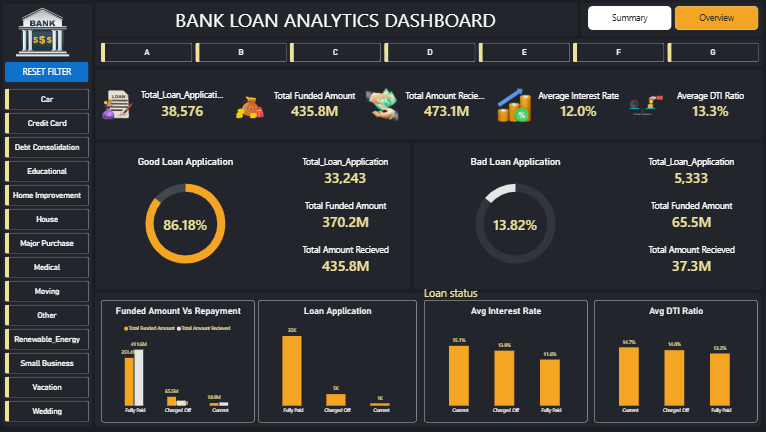

The page's visual inventory and layout, read from the dashboard file:
{"tool":"powerbi","page":{"name":"Summary","canvas":[1920,1080],"ordinal":0},"visuals":[{"type":"cardVisual","fields":{"Data":["financial_loan.Total_Loan_Application","financial_loan.Total Funded Amount","financial_loan.Total Amount Recieved","financial_loan.Average Interest Rate","financial_loan.Average DTI Rate"]},"box":[257.5,190,1644.4,144.4],"z":0},{"type":"donutChart","title":"Good Loan Application","fields":{"Category":["financial_loan.Good_vs_Bad_Loan"],"Y":["financial_loan.Total_Loan_Application"]},"box":[257.8,377.8,422.2,322.2],"z":1000},{"type":"donutChart","title":"Bad Loan Application","fields":{"Category":["financial_loan.Good_vs_Bad_Loan"],"Y":["financial_loan.Total_Loan_Application"]},"box":[1062.5,377.5,462.5,322.5],"z":2000},{"type":"cardVisual","fields":{"Data":["financial_loan.Good Loan%"]},"box":[365.6,484.4,206.7,151.1],"z":3000},{"type":"cardVisual","fields":{"Data":["financial_loan.Bad Loan%"]},"box":[1190,485,206.7,151.1],"z":4000},{"type":"cardVisual","fields":{"Data":["financial_loan.Total_Loan_Application","financial_loan.Total Funded Amount","financial_loan.Total Amount Recieved"],"Rows":["financial_loan.Good_vs_Bad_Loan"]},"box":[688.9,377.8,322.2,322.2],"z":5000},{"type":"cardVisual","fields":{"Data":["financial_loan.Total_Loan_Application","financial_loan.Total Funded Amount","financial_loan.Total Amount Recieved"],"Rows":["financial_loan.Good_vs_Bad_Loan"]},"box":[1545,377.5,342.5,322.5],"z":6000},{"type":"clusteredColumnChart","title":"Funded Amount Vs Repayment","fields":{"Category":["financial_loan.LOAN_STATUS"],"Y":["financial_loan.Total Funded Amount","financial_loan.Total Amount Recieved"]},"box":[256.2,750,384.4,306.2],"z":7000},{"type":"clusteredColumnChart","title":"Loan Application","fields":{"Category":["financial_loan.LOAN_STATUS"],"Y":["financial_loan.Total_Loan_Application"]},"box":[650,750,396.9,306.2],"z":8000},{"type":"textbox","box":[1065,712.5,247.5,75],"z":9000},{"type":"clusteredColumnChart","title":"Avg Interest Rate","fields":{"Category":["financial_loan.LOAN_STATUS"],"Y":["financial_loan.Average Interest Rate"]},"box":[1065.6,750,409.4,306.2],"z":10000},{"type":"clusteredColumnChart","title":"Avg DTI Ratio","fields":{"Category":["financial_loan.LOAN_STATUS"],"Y":["financial_loan.Average DTI Ratio"]},"box":[1490.6,750,409.4,306.2],"z":11000},{"type":"image","box":[18.2,4.5,187.5,150],"z":12000},{"type":"advancedSlicerVisual","fields":{"Values":["financial_loan.PURPOSE"]},"box":[17.5,190,210,867.5],"z":13000},{"type":"advancedSlicerVisual","fields":{"Values":["financial_loan.GRADE"]},"box":[256.2,75,1646.2,80],"z":14000},{"type":"actionButton","box":[18.2,154.5,209.1,50],"z":15000},{"type":"textbox","box":[263.3,15.6,1163.3,71.1],"z":16000},{"type":"pageNavigator","box":[1475,15,427.5,60],"z":17000}]}

Visuals, with their boxes in screenshot pixels (x1, y1, x2, y2), scaled from the page's 1920x1080 canvas onto the 766x432 screenshot:
cardVisual - financial_loan.Total_Loan_Application x financial_loan.Total Funded Amount: 103 76 759 134
"Good Loan Application" donutChart: 103 151 271 280
"Bad Loan Application" donutChart: 424 151 608 280
cardVisual - financial_loan.Good Loan%: 146 194 228 254
cardVisual - financial_loan.Bad Loan%: 475 194 557 254
cardVisual - financial_loan.Total_Loan_Application x financial_loan.Total Funded Amount: 275 151 403 280
cardVisual - financial_loan.Total_Loan_Application x financial_loan.Total Funded Amount: 616 151 753 280
"Funded Amount Vs Repayment" clusteredColumnChart: 102 300 256 422
"Loan Application" clusteredColumnChart: 259 300 418 422
textbox: 425 285 524 315
"Avg Interest Rate" clusteredColumnChart: 425 300 588 422
"Avg DTI Ratio" clusteredColumnChart: 595 300 758 422
image: 7 2 82 62
advancedSlicerVisual - financial_loan.PURPOSE: 7 76 91 423
advancedSlicerVisual - financial_loan.GRADE: 102 30 759 62
actionButton: 7 62 91 82
textbox: 105 6 569 35
pageNavigator: 588 6 759 30
